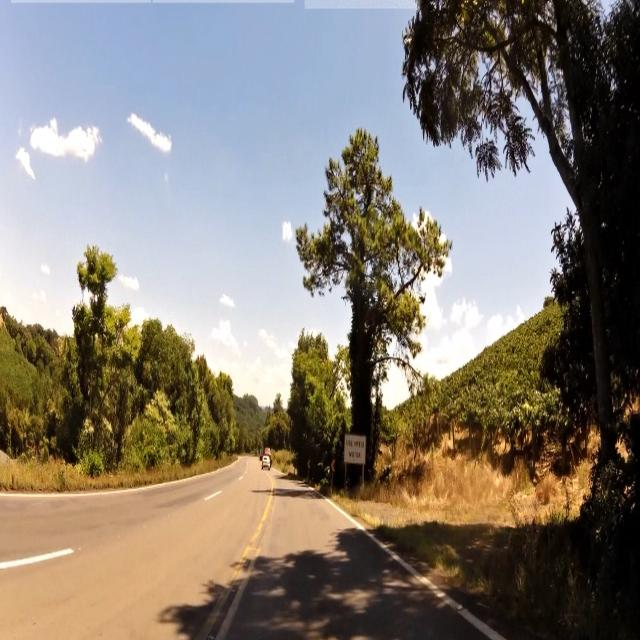E-5: (344, 436, 366, 462)
